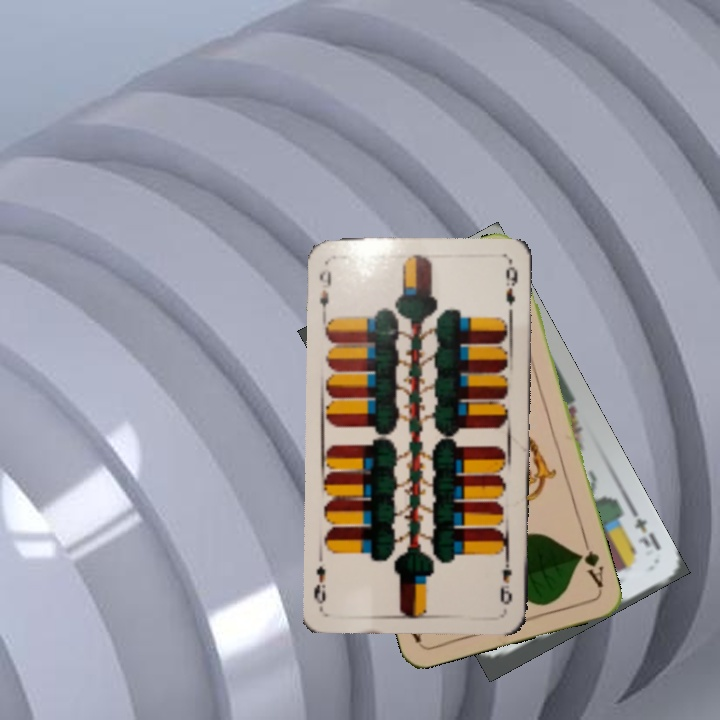E9: (496, 552, 515, 608), (315, 264, 334, 318)
EK: (627, 505, 664, 553)
GA: (574, 534, 606, 591)
